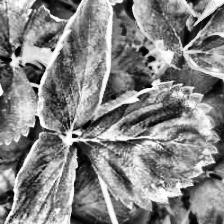Powdery Mildew Leaf: (74, 79, 222, 212), (36, 0, 114, 135), (4, 131, 78, 224), (128, 0, 192, 71), (0, 59, 39, 147), (18, 5, 70, 70), (183, 32, 224, 98), (187, 0, 224, 48)
